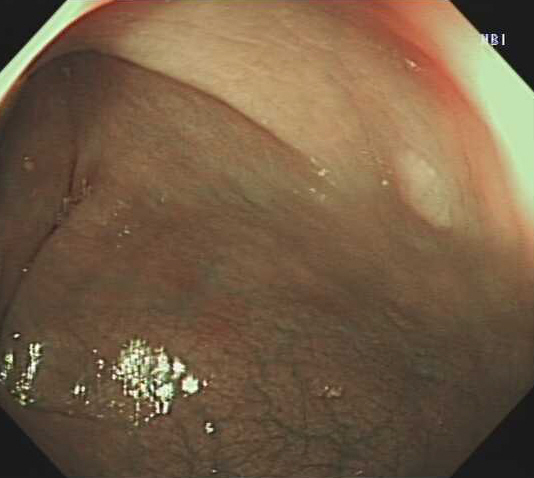others: (388, 141, 457, 237)
